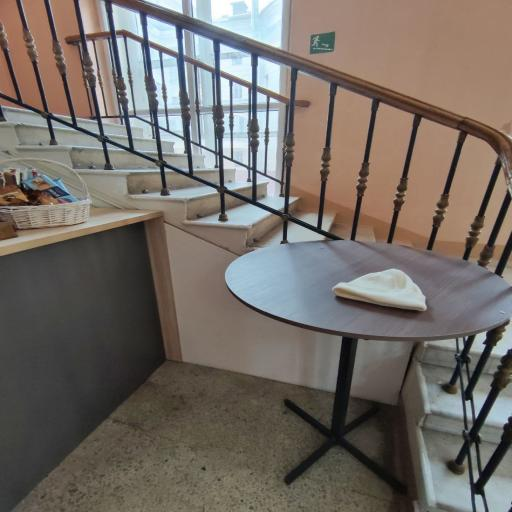laptop: (0, 107, 374, 254), (402, 269, 512, 512)
phone: (225, 240, 512, 494)
